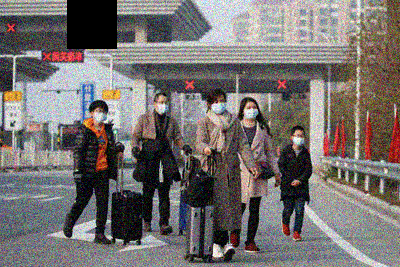with_mask: (242, 105, 260, 120), (210, 98, 226, 114), (291, 133, 306, 148), (156, 99, 170, 115), (93, 108, 106, 123)
